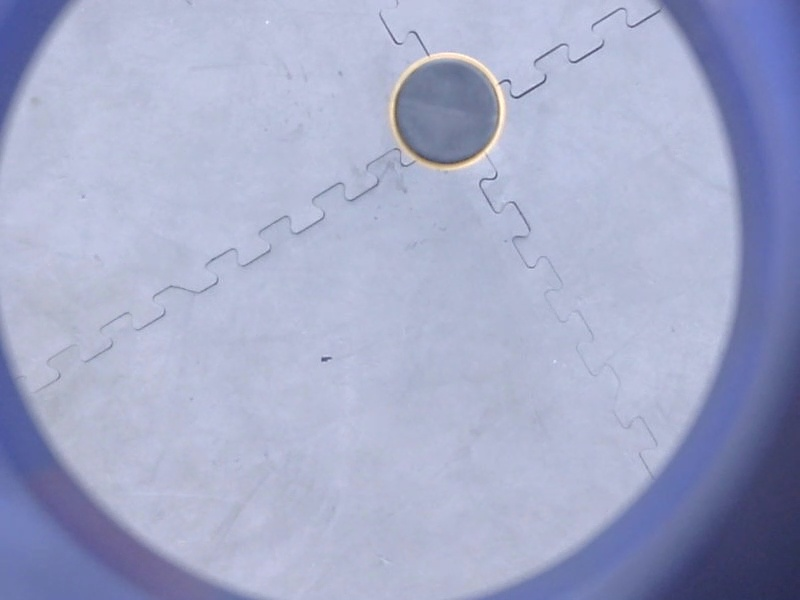tip: (384, 45, 512, 177)
